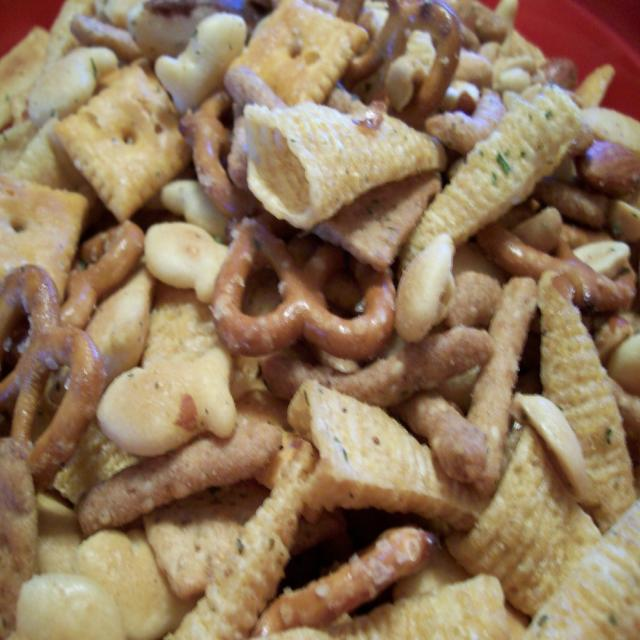Salatini: (8, 17, 631, 631)
